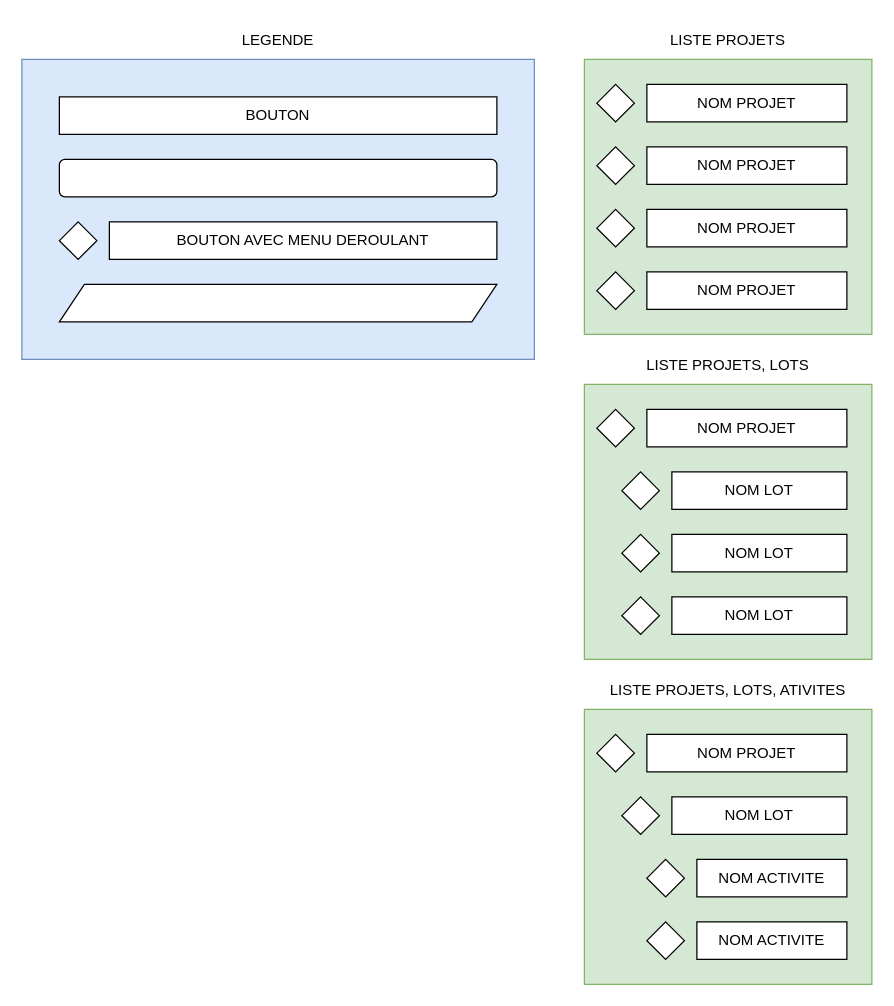
This 894x1006 diagram has some shape labels left out. The shapes that lost their labels are listed below. From the top down, each one's centre as x and y in pixels, then its label:
the point at 277,177: BOUTON AVEC ICONE
the point at 277,302: CHAMP A COMPLETER
